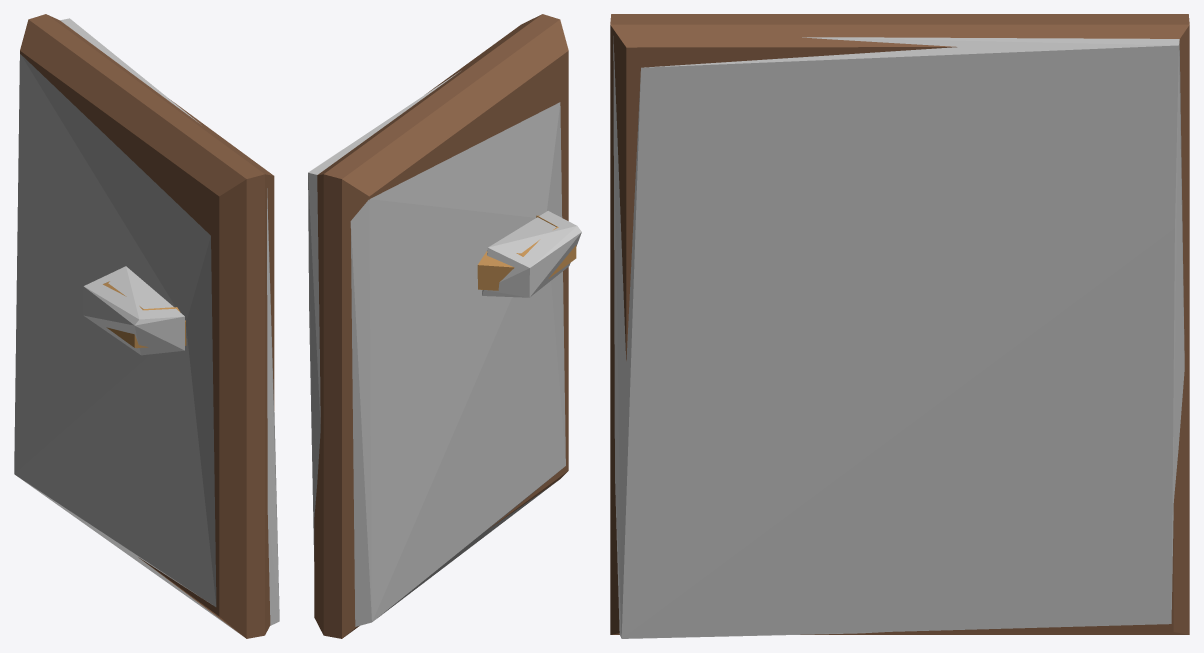
Rendered from SM_Prop_Cabinet_01_Drawer_l_03.fbx.
3 renders of one model, left to right at view 1: azimuth 30°, elevation 25°; view 2: azimuth 150°, elevation 25°; view 3: azimuth 270°, elevation 25°, orthographic. The views are drawn at different scales.
Parts seen in each view (by area): view 1: SM_Prop_Cabinet_01_Drawer_l_03_ConvexHulls, SM_Prop_Cabinet_01_Drawer_l_03; view 2: SM_Prop_Cabinet_01_Drawer_l_03_ConvexHulls, SM_Prop_Cabinet_01_Drawer_l_03; view 3: SM_Prop_Cabinet_01_Drawer_l_03_ConvexHulls, SM_Prop_Cabinet_01_Drawer_l_03.
Boxes of the visible parts, x1,y1,x2,y2 form: SM_Prop_Cabinet_01_Drawer_l_03_ConvexHulls: [14, 18, 279, 634]; SM_Prop_Cabinet_01_Drawer_l_03: [20, 14, 274, 638]; SM_Prop_Cabinet_01_Drawer_l_03_ConvexHulls: [308, 71, 581, 626]; SM_Prop_Cabinet_01_Drawer_l_03: [314, 14, 576, 638]; SM_Prop_Cabinet_01_Drawer_l_03_ConvexHulls: [613, 36, 1184, 638]; SM_Prop_Cabinet_01_Drawer_l_03: [610, 14, 1189, 634].
Size of the model in its own units: 9.34 by 33.74 by 39.21.
2 materials, 1 textured.
